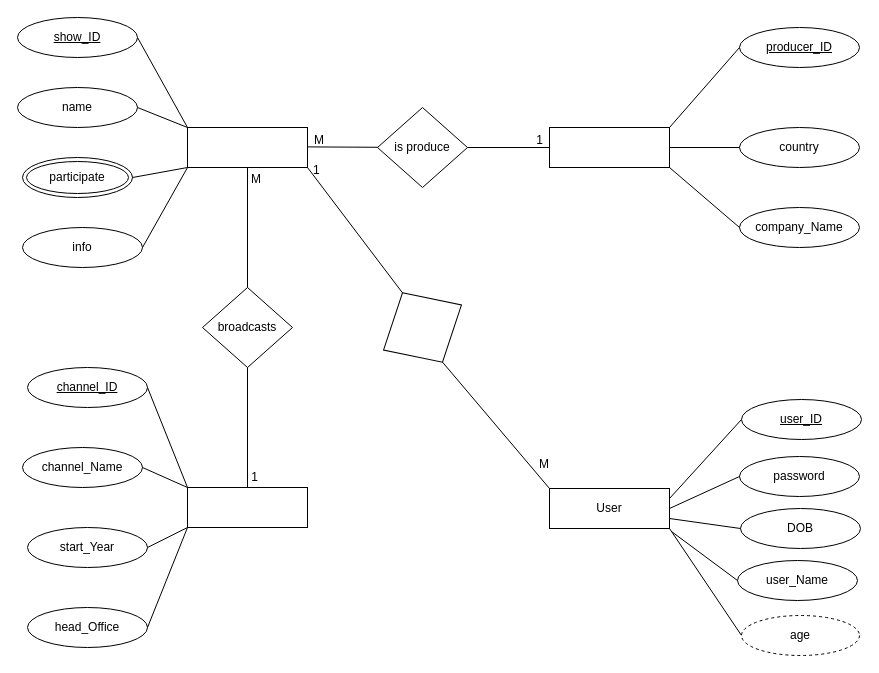
Some shapes in this 879 by 673 pixel diagram are drawn without their labels. The box of each missing label's shape, as (x1, y1, x2, y2) in pixels:
Producer: (548, 126, 670, 168)
rates: (362, 269, 482, 385)
Reality_Show: (186, 126, 308, 168)
TV_Channel: (186, 486, 308, 528)
